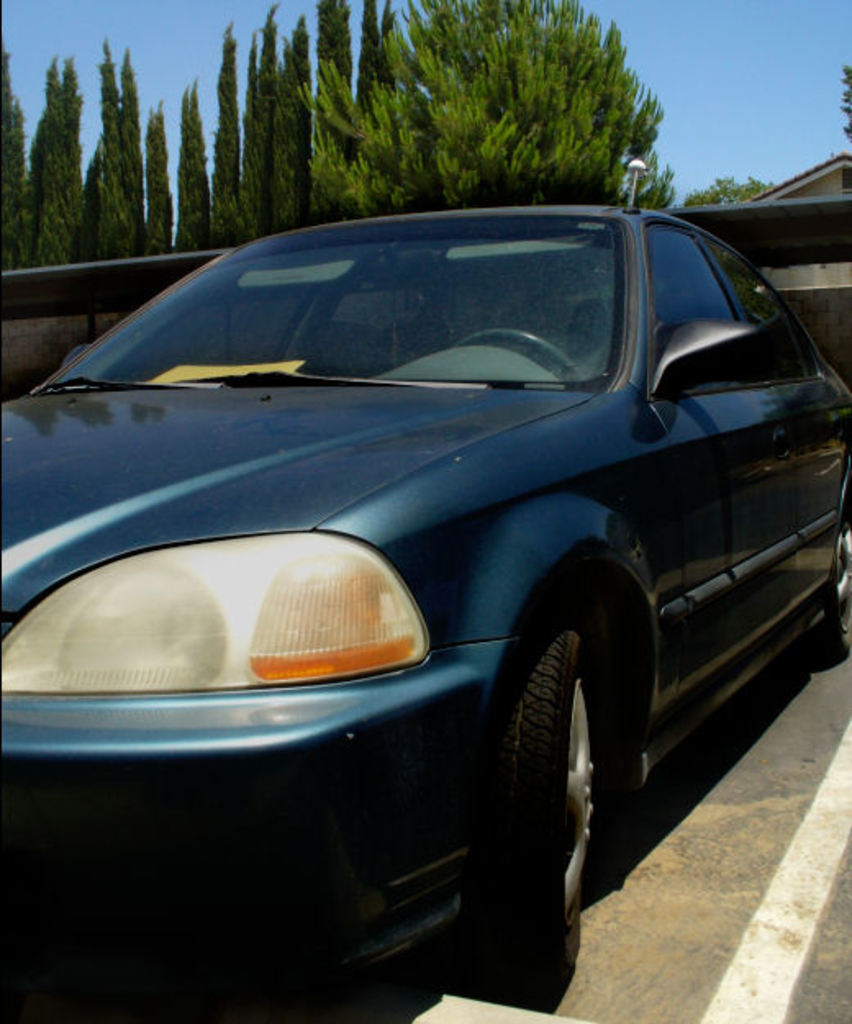Car: (0, 158, 852, 1023)
